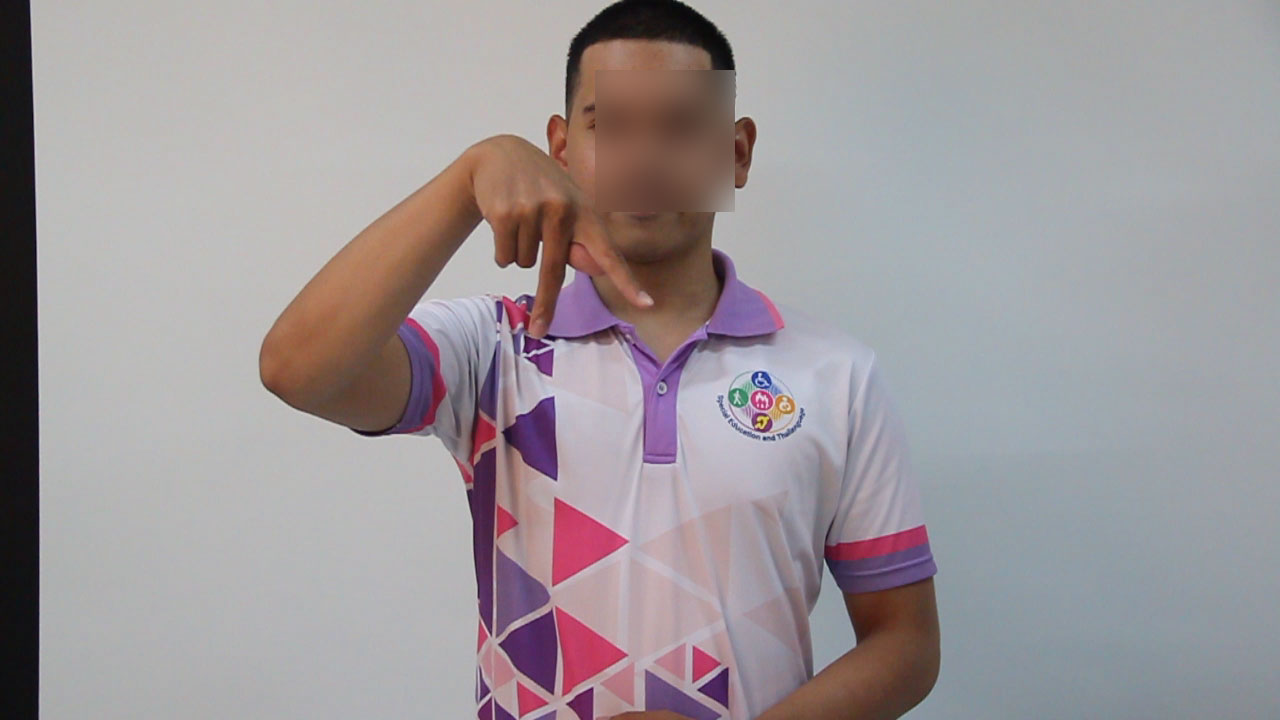por: (454, 114, 666, 344)
